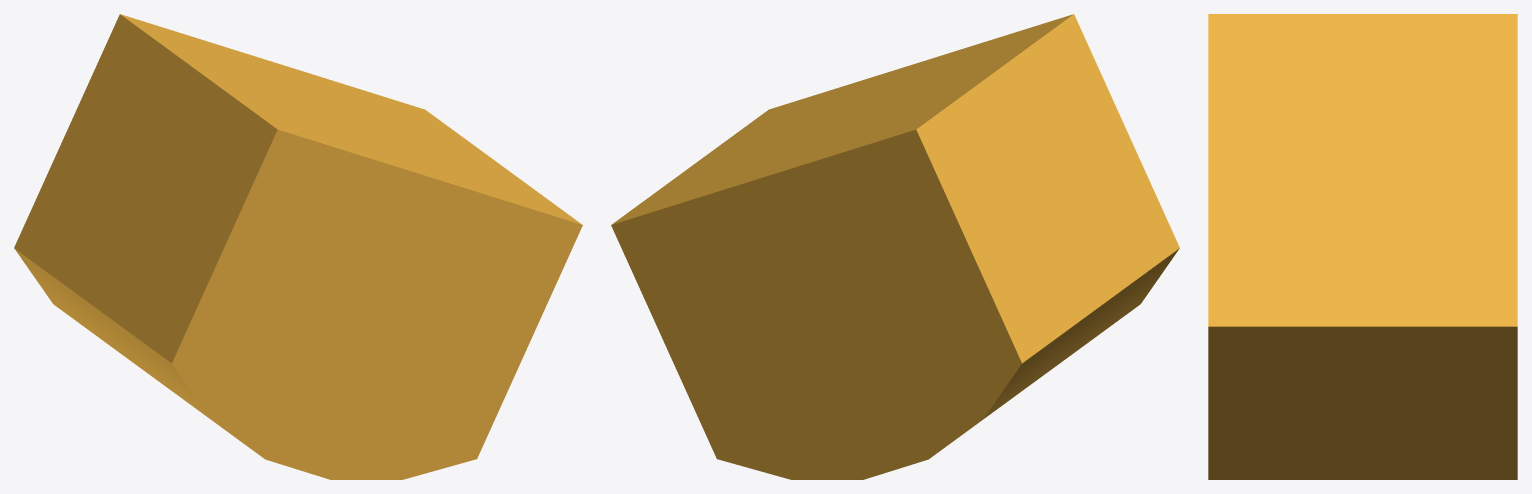
The model's file is original-10.obj.
The picture shows the model from 3 angles, left to right: view 1: azimuth 30°, elevation 25°; view 2: azimuth 150°, elevation 25°; view 3: azimuth 270°, elevation 25°; orthographic projection. The views are drawn at different scales.
Parts seen in each view (by area): view 1: Group10/mesh20/mesh20-geometry#mesh20-geometry; view 2: Group10/mesh20/mesh20-geometry#mesh20-geometry; view 3: Group10/mesh20/mesh20-geometry#mesh20-geometry.
Part boxes in pixels (<box>): Group10/mesh20/mesh20-geometry#mesh20-geometry: <box>14,14,582,479</box>; Group10/mesh20/mesh20-geometry#mesh20-geometry: <box>611,14,1179,479</box>; Group10/mesh20/mesh20-geometry#mesh20-geometry: <box>1208,14,1517,479</box>.
Size of the model in its own units: 0.3612 by 0.3198 by 0.2402.
